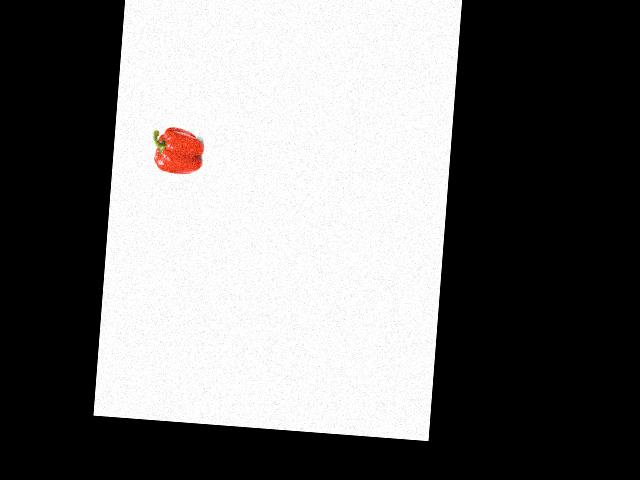bell_pepper: (149, 125, 206, 176)
